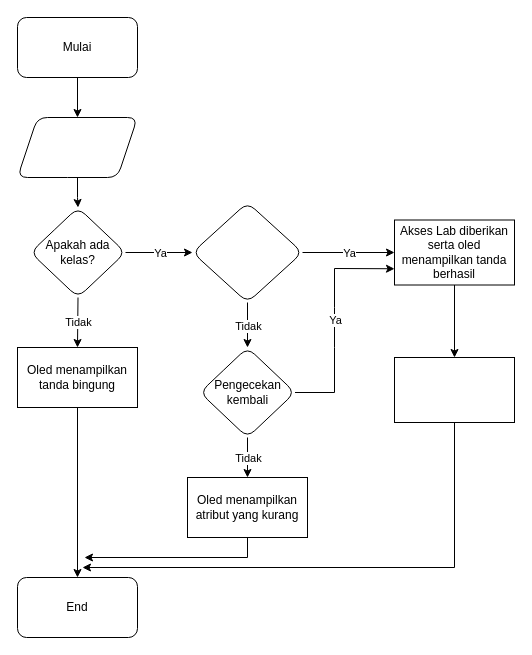
Some shapes in this 532 by 655 pixel diagram are drawn without their labels. Each missing label, with the centre of its shape:
Absensi di rekap ke database dalam website: the point at 454,389
Apakah atribut keamanan lengkap?: the point at 247,252
Tap kartu mahasiswa: the point at 77,147
